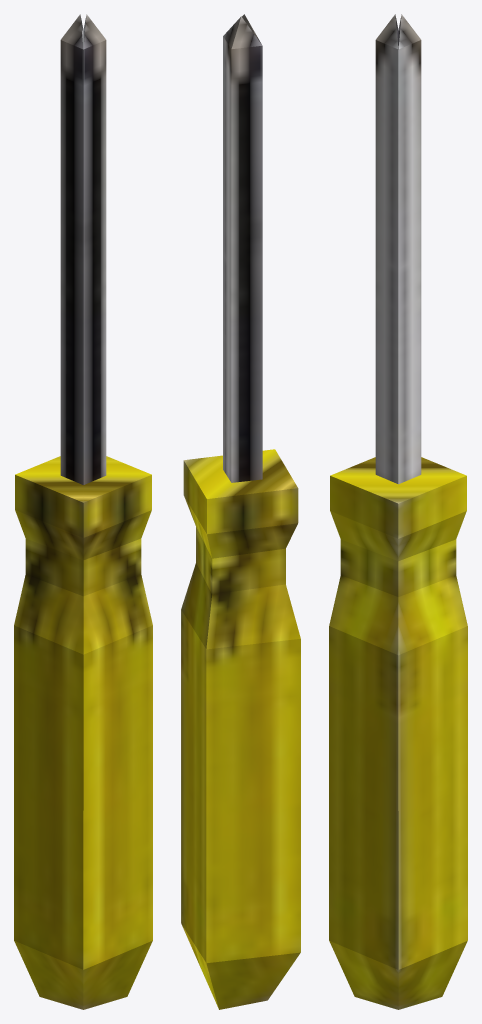
File: tool_screwdriver_1.fbx
The picture shows the model from 3 angles, left to right: view 1: azimuth 90°, elevation 25°; view 2: azimuth 150°, elevation 25°; view 3: azimuth 270°, elevation 25°; orthographic projection.
Parts seen in each view (by area): view 1: ScrewDriverPlastic; view 2: ScrewDriverPlastic; view 3: ScrewDriverPlastic.
Part boxes in pixels (bbox=[...]): ScrewDriverPlastic: bbox=[14, 14, 152, 1009]; ScrewDriverPlastic: bbox=[181, 14, 300, 1009]; ScrewDriverPlastic: bbox=[329, 14, 467, 1009].
Bounding box in the file's own units: 16.4 × 128 × 16.4.
Materials: 1 (1 with a texture image).
